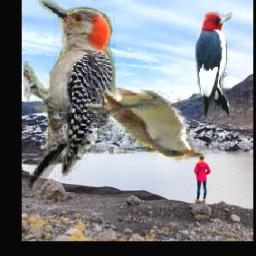Cuckoo: (86, 88, 206, 164)
Woodpecker: (23, 0, 123, 199), (194, 9, 232, 120)
